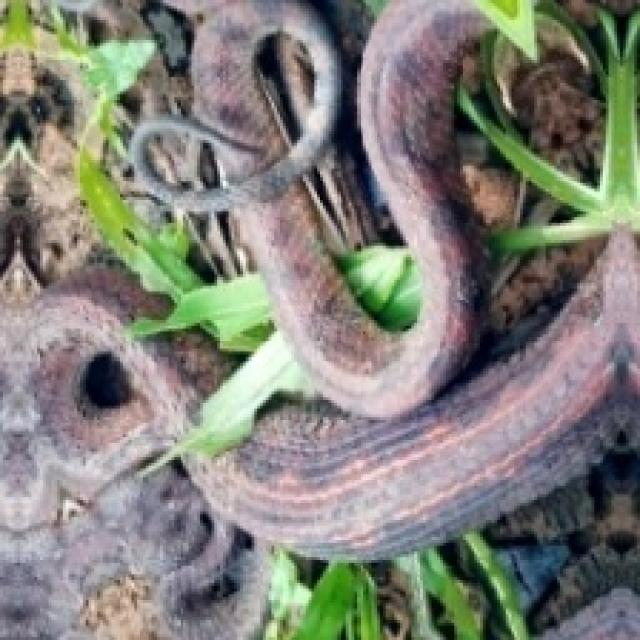philippine pitviper: (186, 0, 637, 554), (231, 0, 483, 414), (0, 268, 196, 531), (130, 2, 340, 212), (131, 0, 331, 189), (166, 0, 329, 180)
